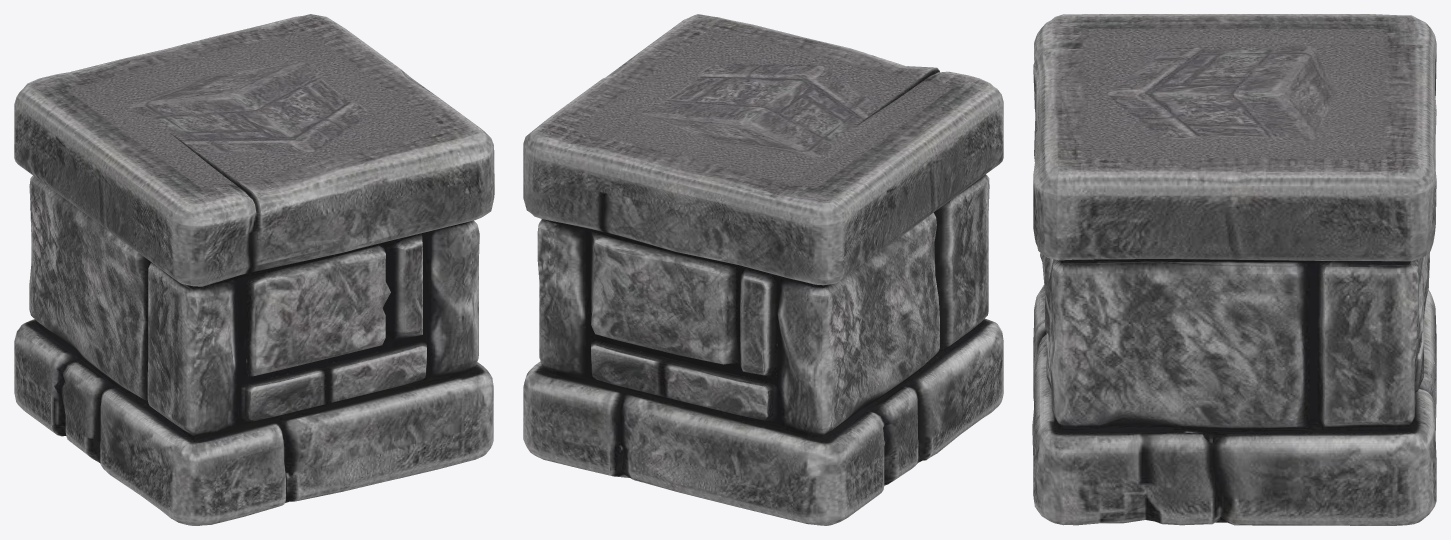
The model's file is block_monolith.glb.
The picture shows the model from 3 angles, left to right: view 1: azimuth 30°, elevation 25°; view 2: azimuth 150°, elevation 25°; view 3: azimuth 270°, elevation 25°; orthographic projection. The views are drawn at different scales.
Bounding box in the file's own units: 1.91 × 1.81 × 1.89.
Materials: 1 (1 with a texture image).
